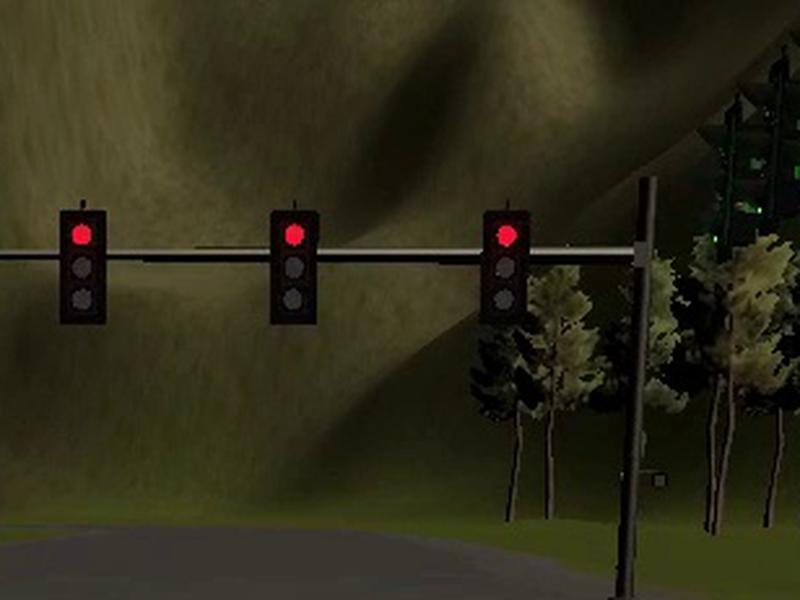Red: (480, 210, 530, 325), (59, 210, 107, 326), (270, 211, 318, 325)
